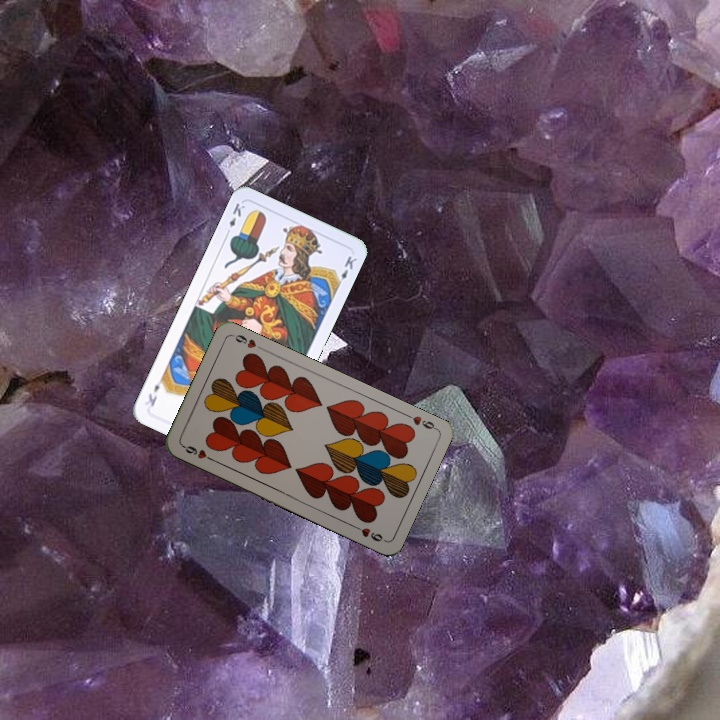EK: (222, 199, 248, 238)
H9: (178, 441, 217, 464), (401, 409, 439, 432)
